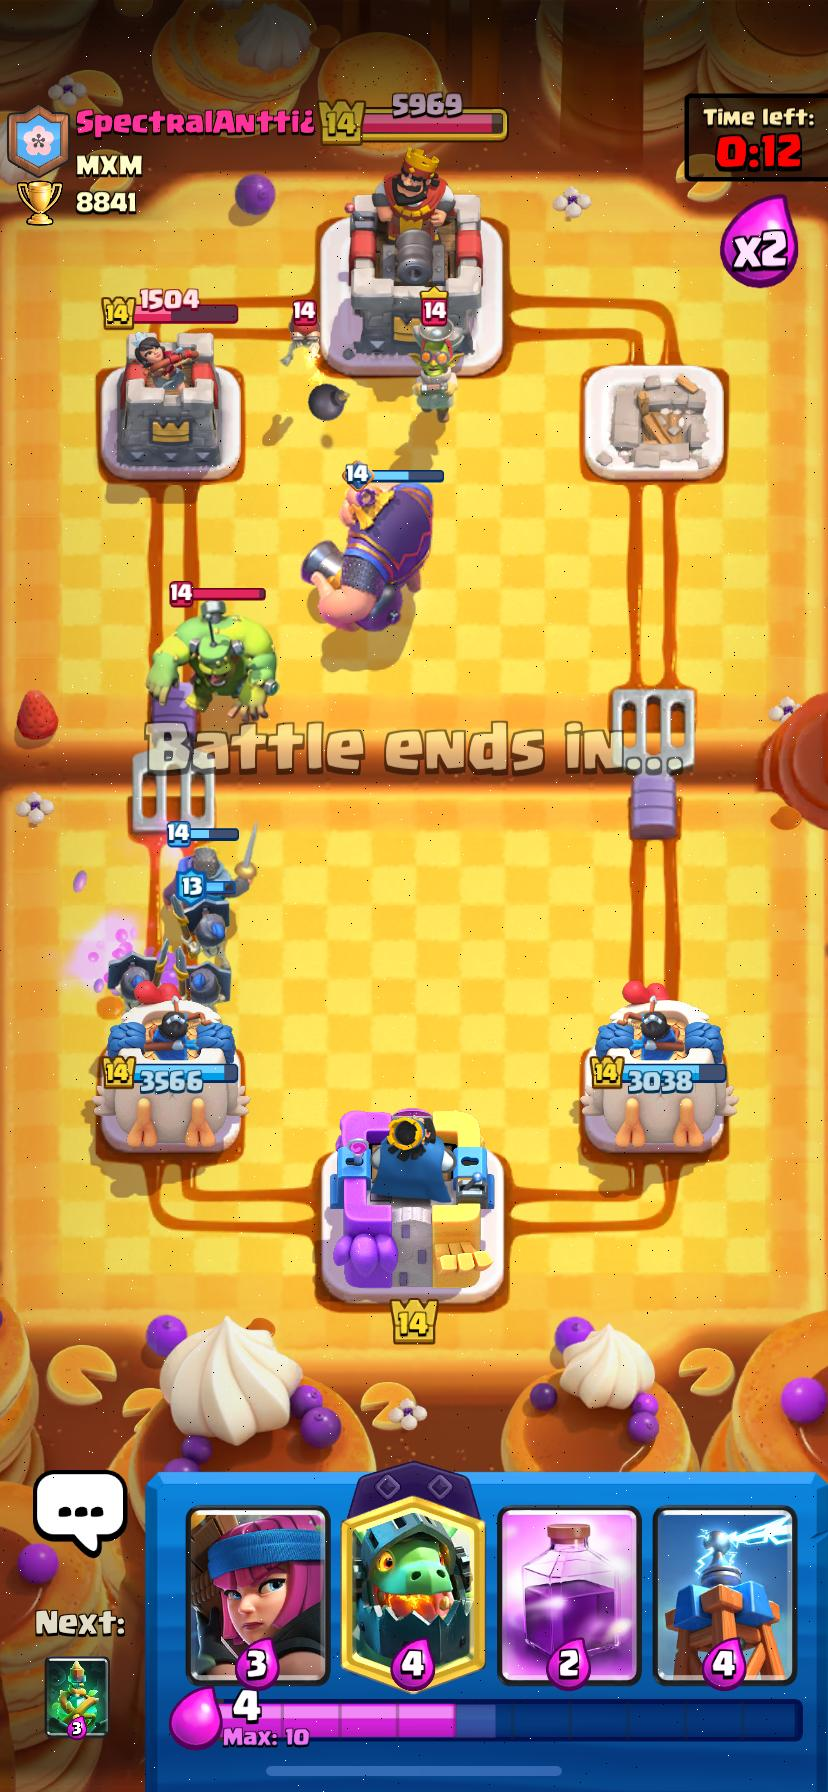EBomber: (281, 325, 319, 366)
EDoctor: (412, 321, 465, 421)
EKingTower: (348, 147, 481, 360)
EMonster: (148, 600, 277, 722)
EnemyPrincessTower: (99, 331, 241, 480)
OEVRoyalG: (301, 467, 441, 631)
OGuard: (165, 891, 234, 970), (108, 953, 154, 1006), (178, 959, 230, 1005)
OKnight: (164, 846, 256, 901)
OwnKingTower: (321, 1109, 503, 1303)
OwnPrincessTower: (580, 982, 737, 1153), (95, 997, 247, 1151)
TowerDown: (583, 365, 724, 481)
